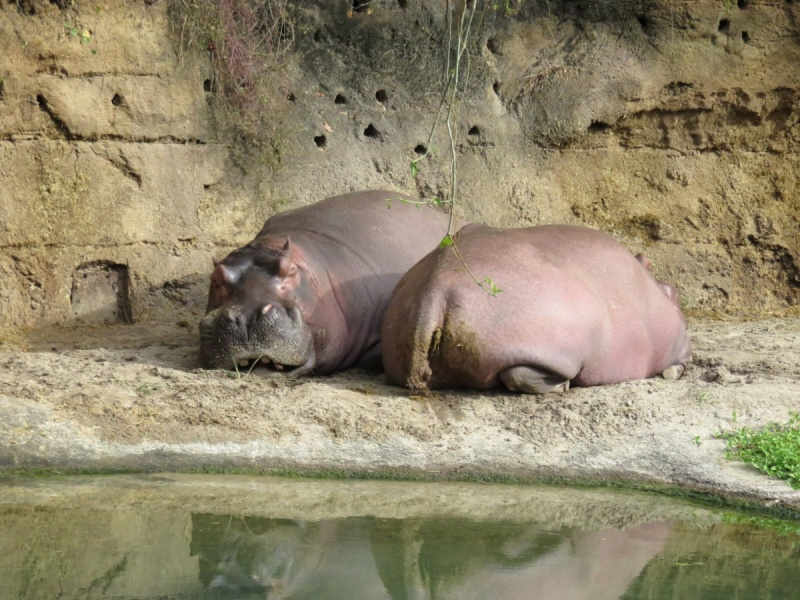hipopotamo: (386, 219, 703, 394), (192, 186, 462, 382)
